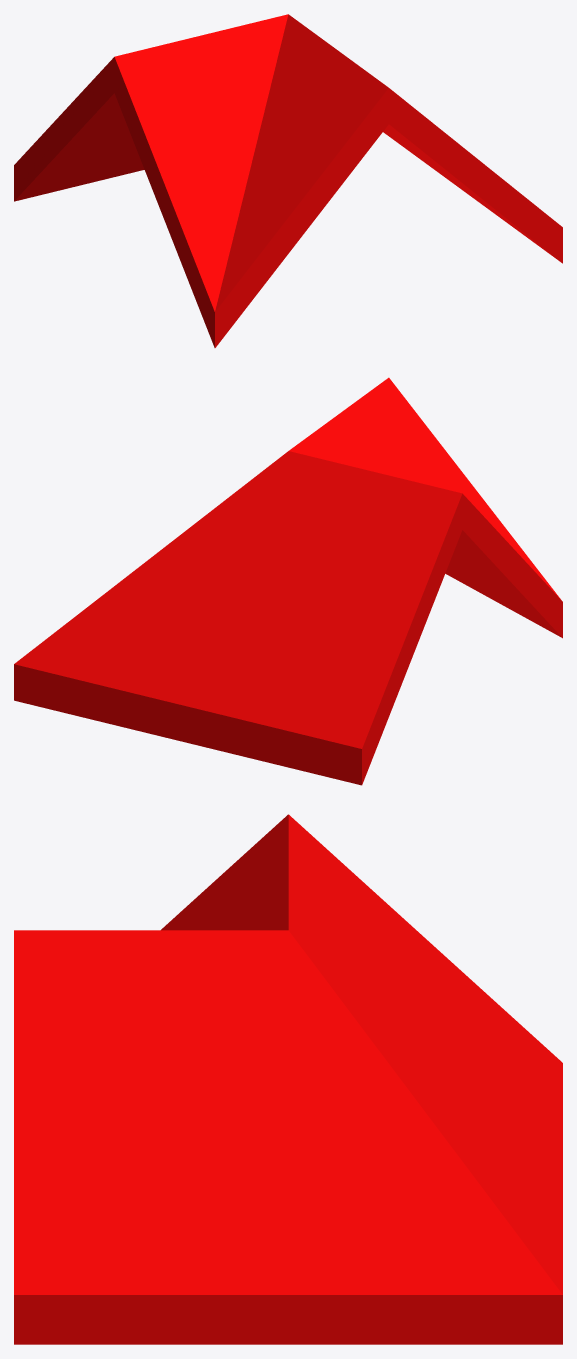
File: roof_2_corner.fbx
The picture shows the model from 3 angles, top to bottom: view 1: azimuth 30°, elevation 25°; view 2: azimuth 150°, elevation 25°; view 3: azimuth 270°, elevation 25°; orthographic projection. The views are drawn at different scales.
Parts seen in each view (by area): view 1: Mesh1_Component_4_1 Model; view 2: Mesh1_Component_4_1 Model; view 3: Mesh1_Component_4_1 Model.
Boxes of the visible parts, box(x1,y1,x2,y2) form: Mesh1_Component_4_1 Model: box(14, 14, 562, 347); Mesh1_Component_4_1 Model: box(14, 377, 562, 785); Mesh1_Component_4_1 Model: box(14, 814, 562, 1344).
Size of the model in its own units: 1 by 0.6 by 1.
